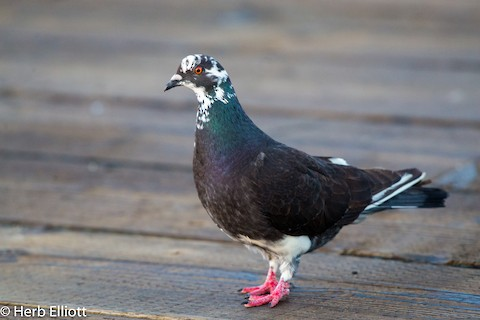pigeon: (159, 49, 456, 311)
